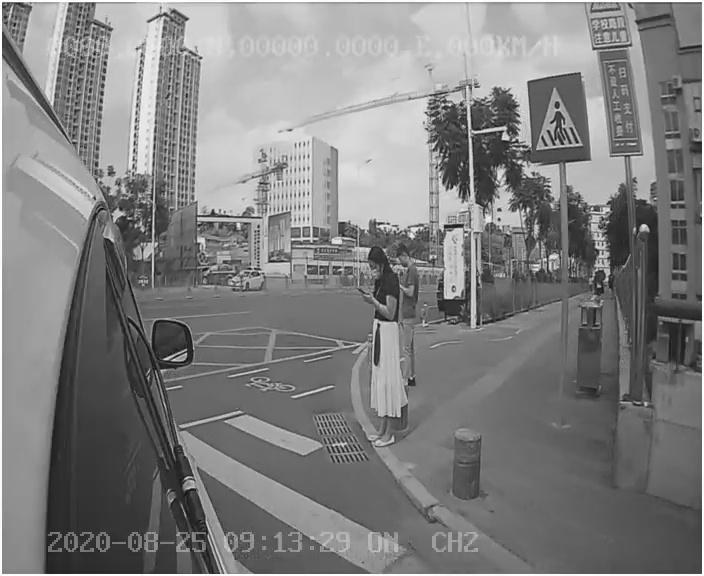person: (353, 246, 409, 455)
